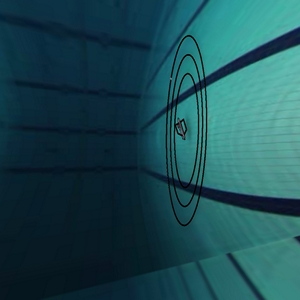circle: (140, 27, 225, 239)
submarine: (169, 109, 193, 148)
